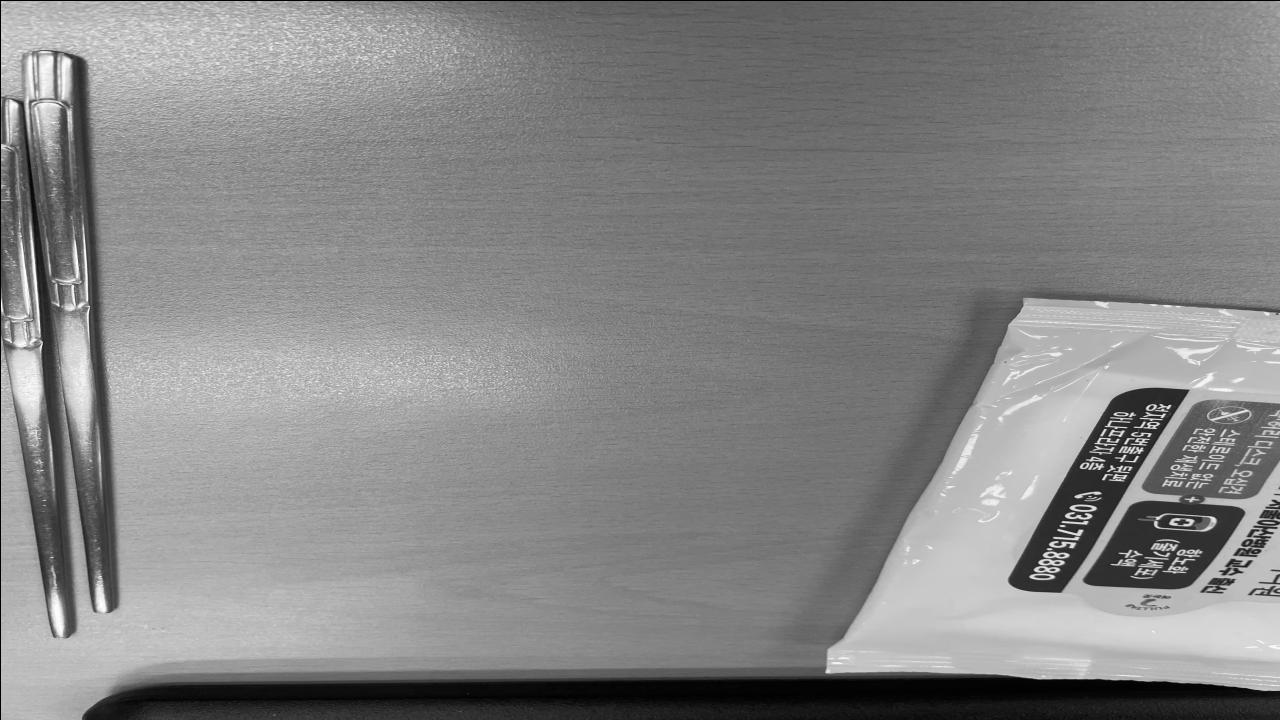chopstick: (0, 44, 114, 642)
